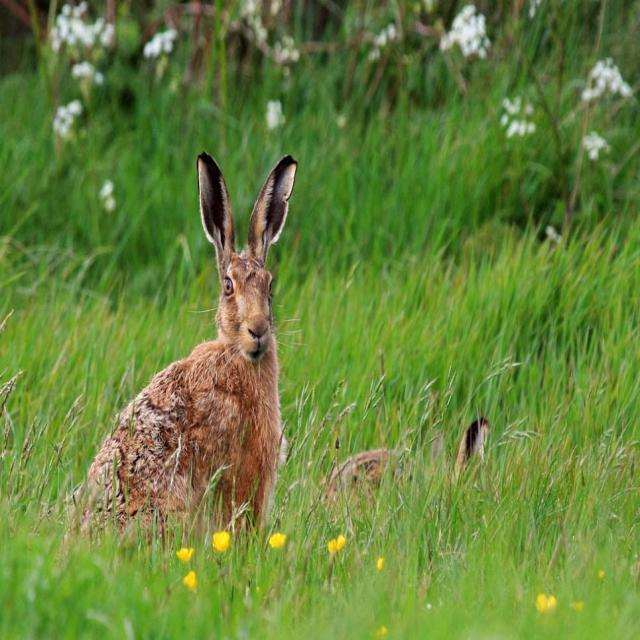Hare: (64, 144, 300, 550)
